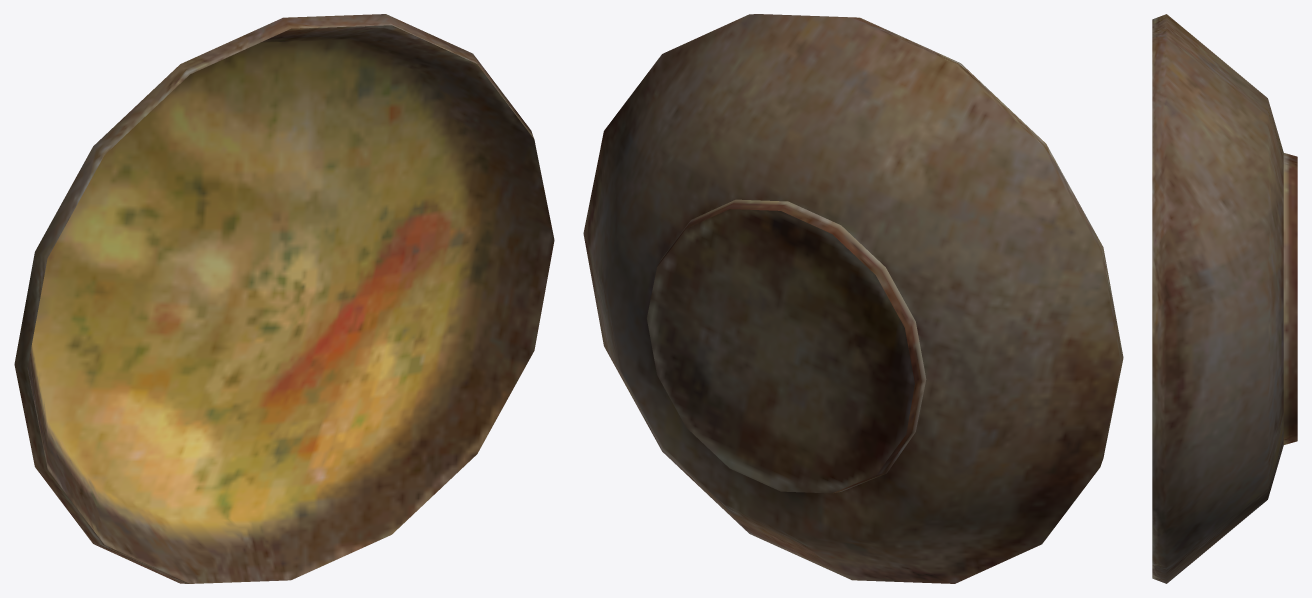
File: ragout.obj
The picture shows the model from 3 angles, left to right: view 1: azimuth 30°, elevation 25°; view 2: azimuth 150°, elevation 25°; view 3: azimuth 270°, elevation 25°; orthographic projection. The views are drawn at different scales.
Visible parts, largest first — view 1: Line04:0; view 2: Line04:0; view 3: Line04:0.
Boxes of the visible parts, x1,y1,x2,y2 form: Line04:0: (14, 14, 554, 583); Line04:0: (583, 14, 1123, 583); Line04:0: (1152, 14, 1297, 583).
Bounding box in the file's own units: 18.52 × 18.52 × 4.72.
